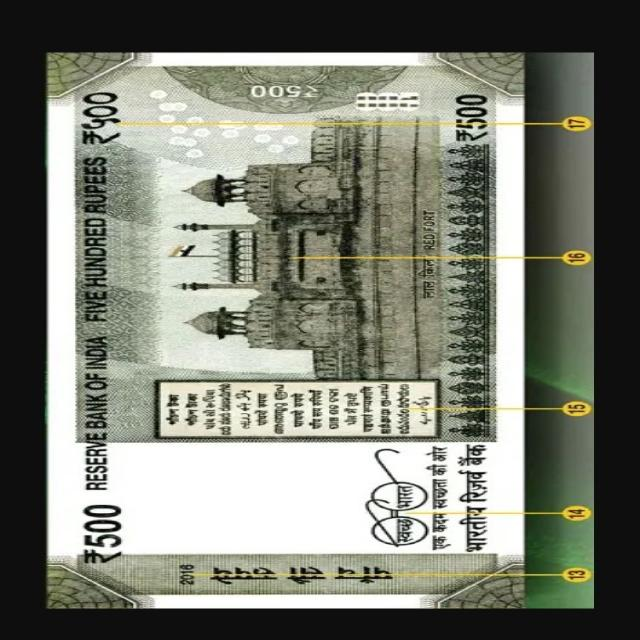500IndianRupees: (42, 51, 530, 613)
